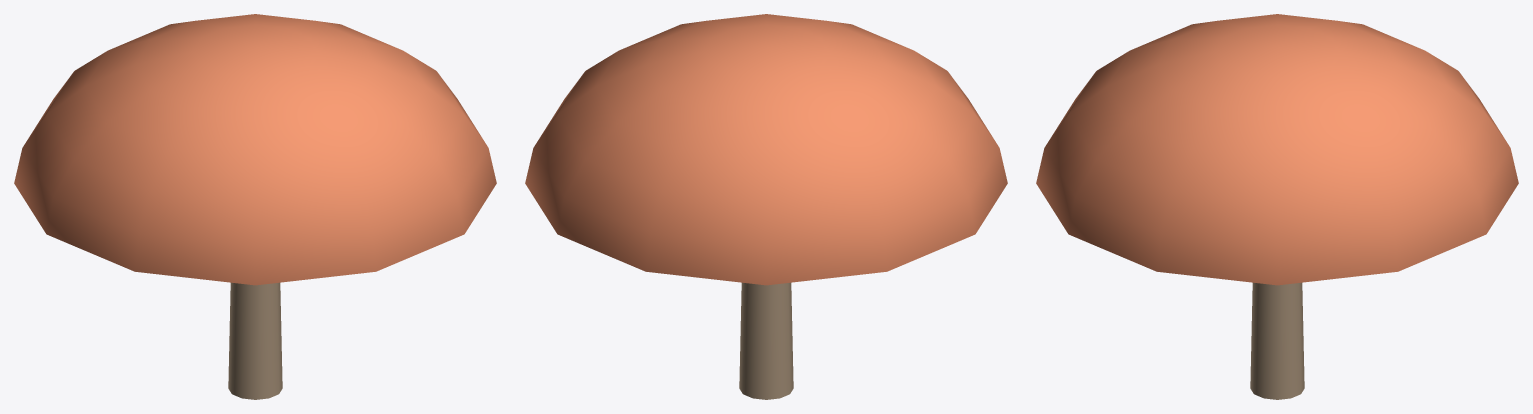
Rendered from tree_phuong_vi.glb.
3 renders of one model, left to right at view 1: azimuth 30°, elevation 25°; view 2: azimuth 150°, elevation 25°; view 3: azimuth 270°, elevation 25°, orthographic.
Size of the model in its own units: 3.2 by 2.5 by 3.2.
